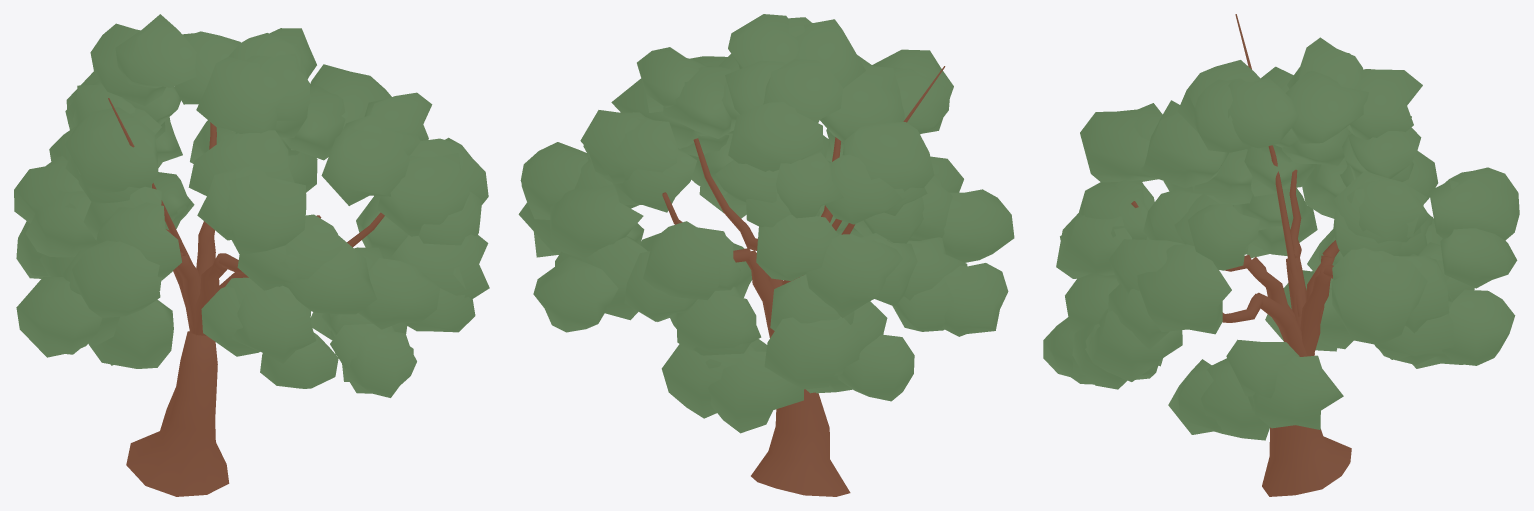
The model's file is Blender_WesternJuniper_1.glb.
The picture shows the model from 3 angles, left to right: view 1: azimuth 30°, elevation 25°; view 2: azimuth 150°, elevation 25°; view 3: azimuth 270°, elevation 25°; orthographic projection. The views are drawn at different scales.
Parts seen in each view (by area): view 1: Blender_WesternJuniper_1; view 2: Blender_WesternJuniper_1; view 3: Blender_WesternJuniper_1.
Part boxes in pixels (x1,y1,x2,y2): Blender_WesternJuniper_1: (14, 14, 489, 496); Blender_WesternJuniper_1: (518, 14, 1014, 496); Blender_WesternJuniper_1: (1043, 14, 1519, 496).
Size of the model in its own units: 10.35 by 9.66 by 9.64.
